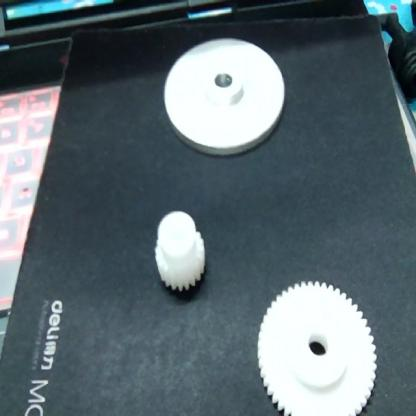FOD: (247, 273, 382, 415), (156, 28, 292, 159), (147, 204, 212, 298)
